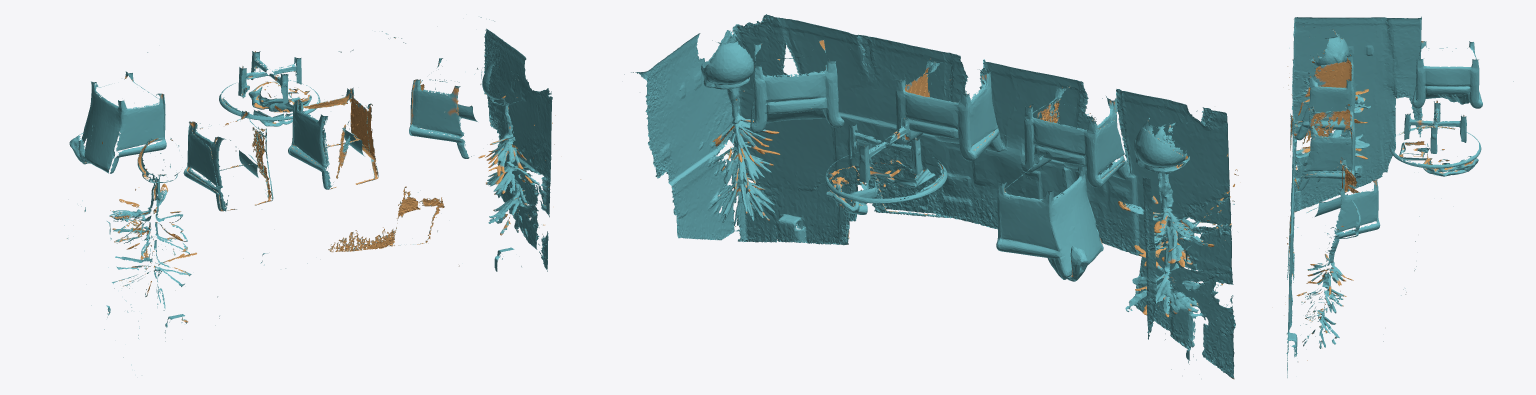
The model's file is PREEXISTING-PRIOR-provenance.glb.
The picture shows the model from 3 angles, left to right: view 1: azimuth 30°, elevation 25°; view 2: azimuth 150°, elevation 25°; view 3: azimuth 270°, elevation 25°; orthographic projection. The views are drawn at different scales.
Parts seen in each view (by area): view 1: world; view 2: world; view 3: world.
Part boxes in pixels (x1,y1,x2,y2): world: (64,17,580,365); world: (624,14,1238,379); world: (1284,16,1513,377).
Bounding box in the file's own units: 5.8 × 2.62 × 2.95.
